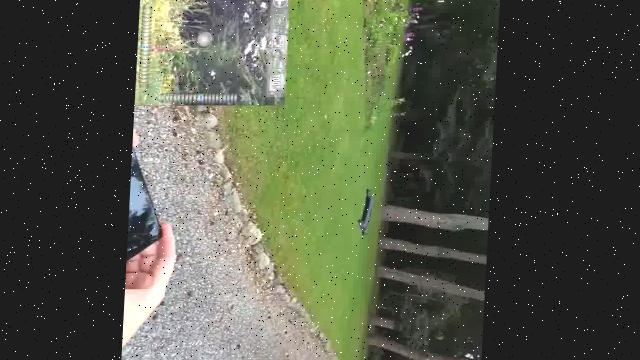drone: (344, 161, 388, 263)
